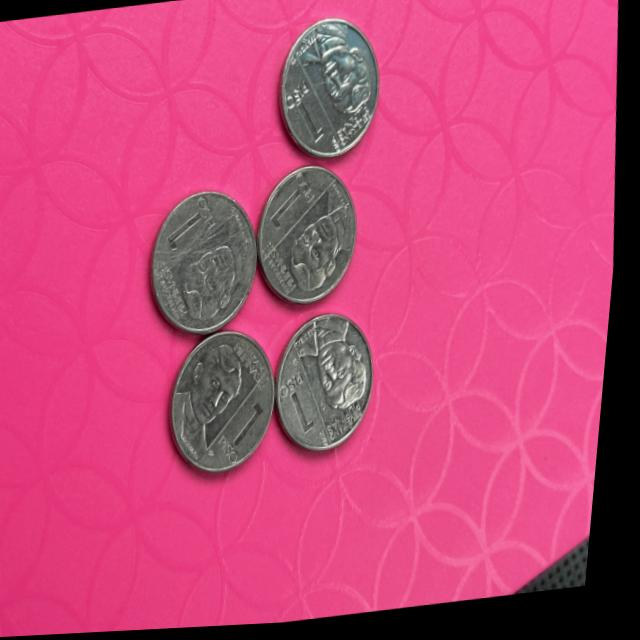1_New_Front: (159, 195, 228, 268), (261, 171, 323, 249), (218, 397, 278, 474), (280, 365, 321, 450), (283, 82, 327, 155)
